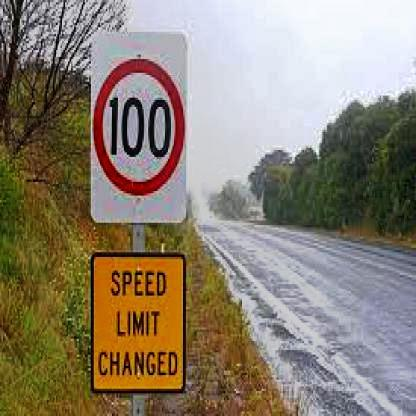Speed Limit -100-: (90, 52, 186, 196)
